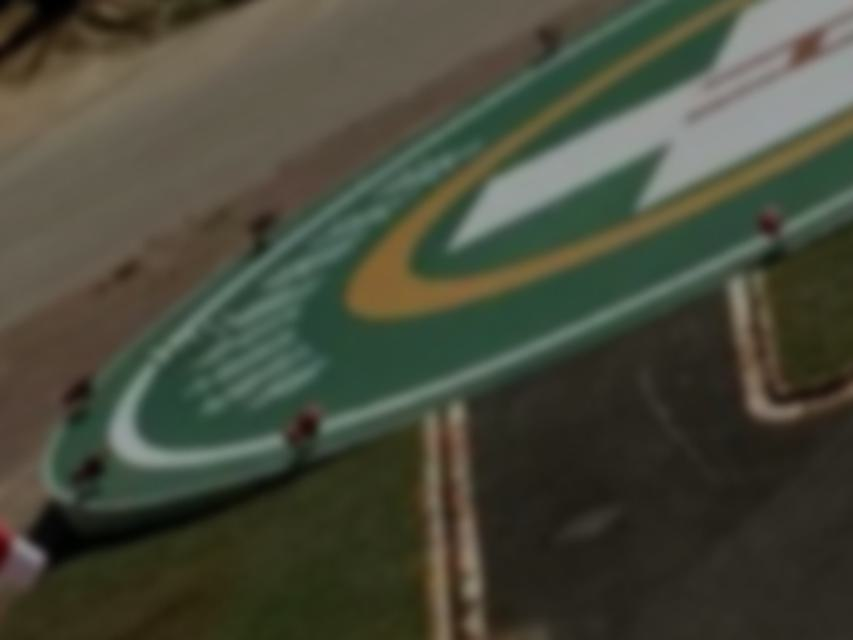Apron: (336, 1, 853, 328)
